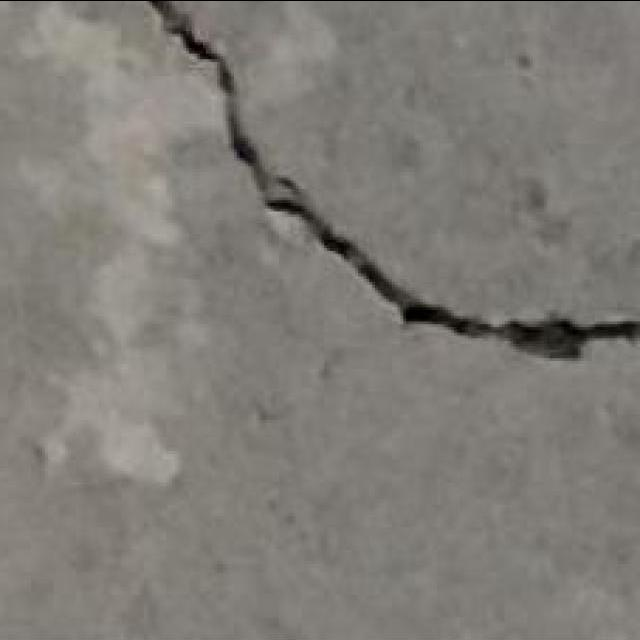crack: (0, 22, 315, 639), (150, 0, 638, 362), (220, 336, 640, 634), (3, 8, 211, 294), (137, 5, 306, 180), (138, 1, 234, 79)
